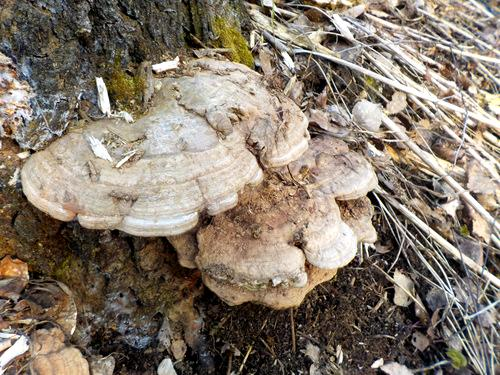Ganoderma - Fruit Body: (12, 59, 311, 235), (196, 138, 382, 313)
